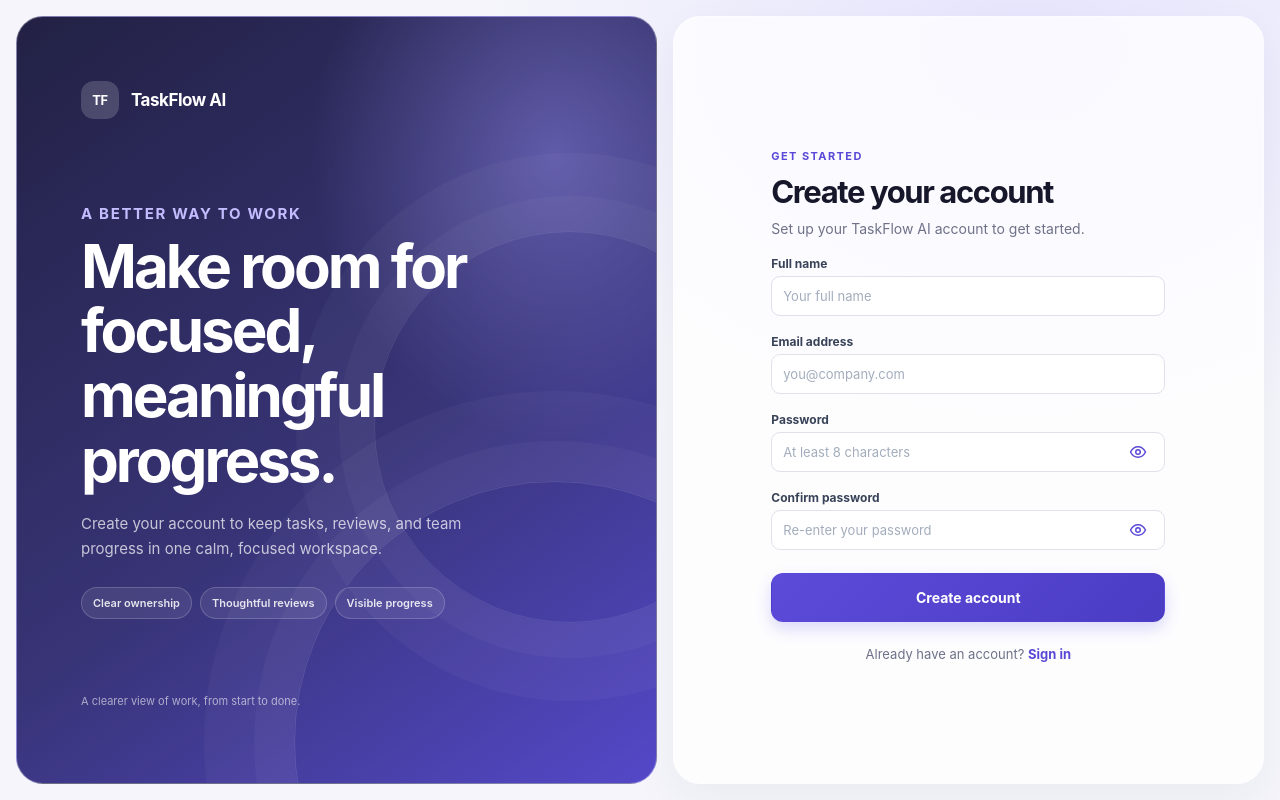
Scenario: RegistrationForm › rejects passwords that do not match
In the field labelled "Full name": (968, 296) [771,276,1165,316], type "Taylor Example"
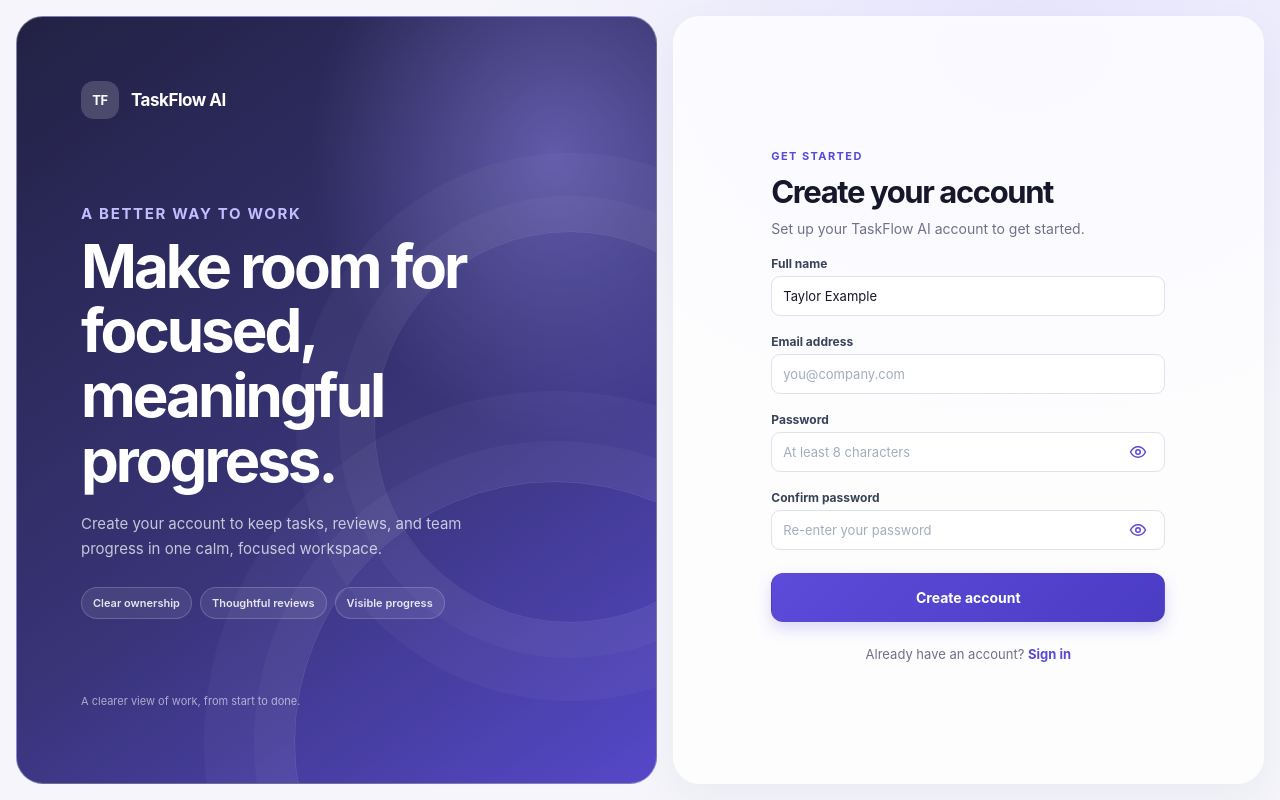
In the field labelled "Email address": (968, 374) [771,354,1165,394], type "taylor@example.com"
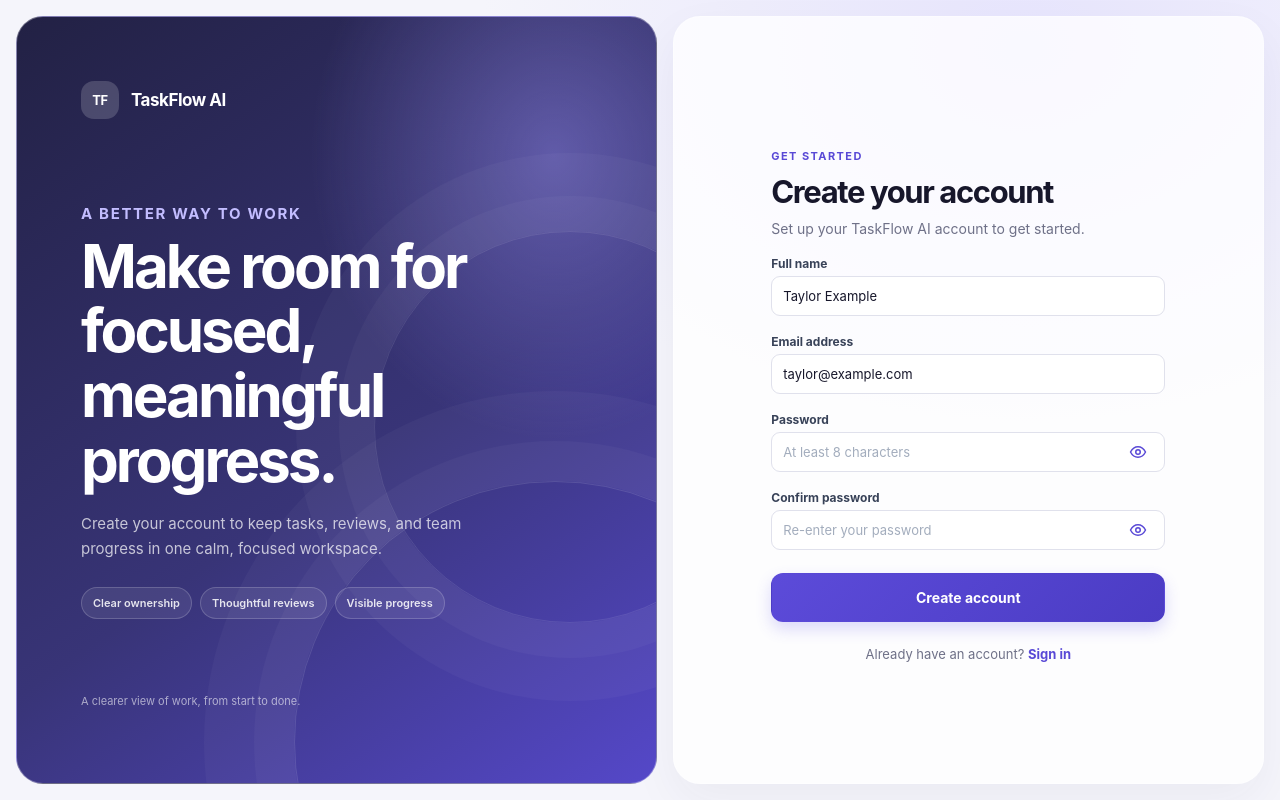
In the password field labelled "Password": (968, 452) [771,432,1165,472], type "Password123"
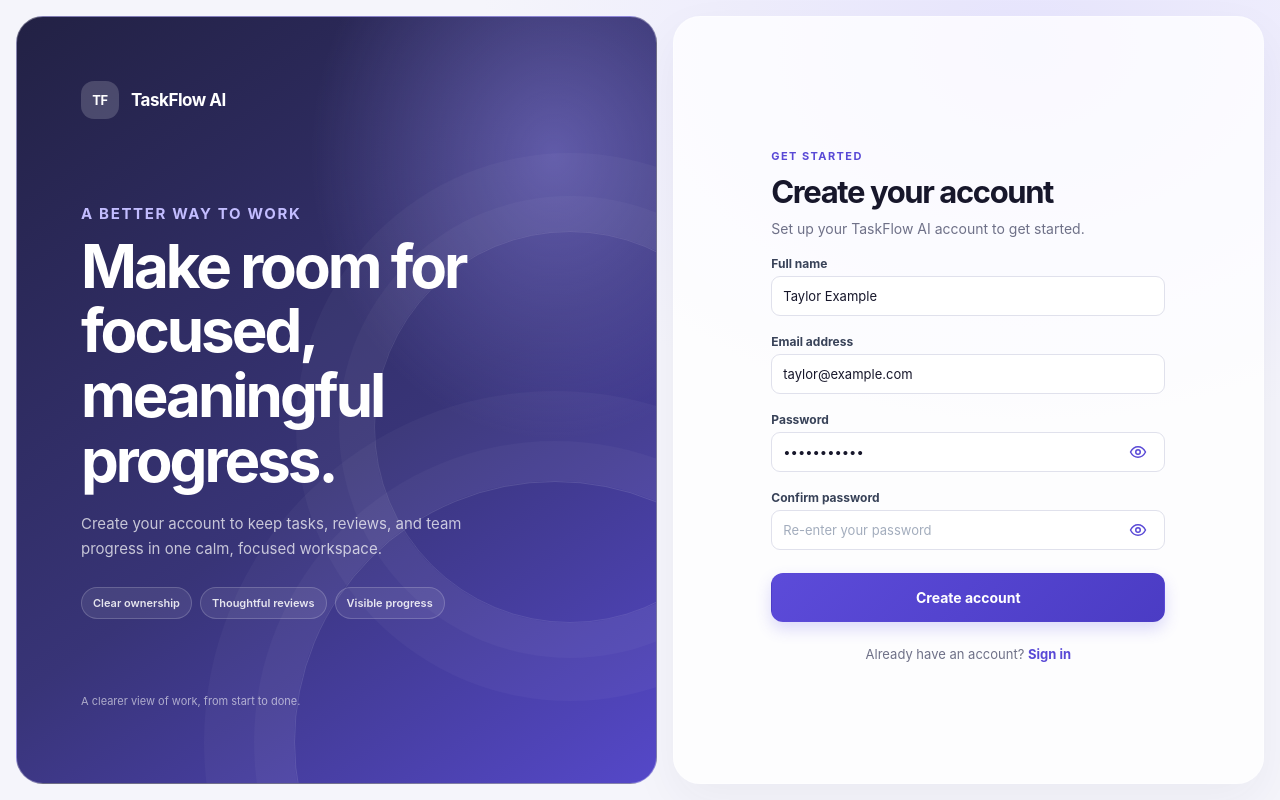
In the password field labelled "Confirm password": (968, 530) [771,510,1165,550], type "Different123"
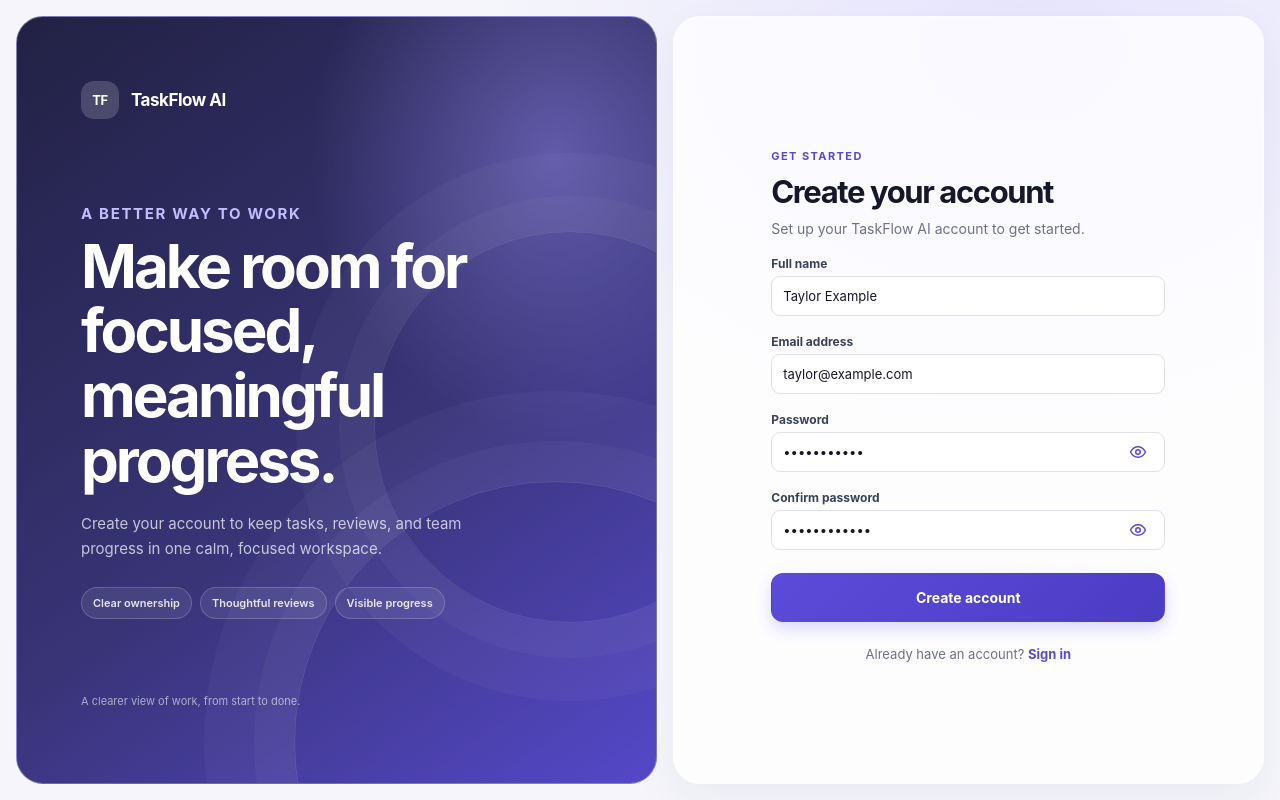
Click the button "Create account": (968, 597) [771,573,1165,622]
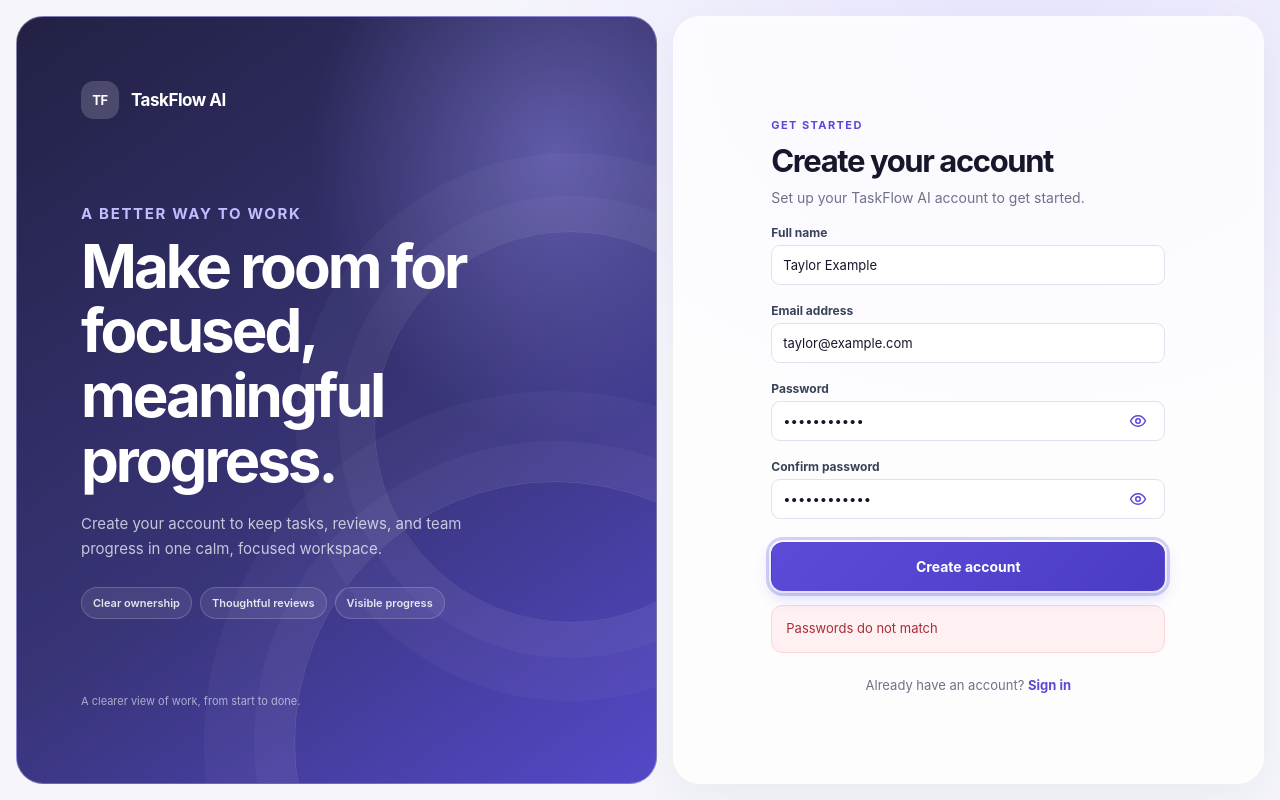
expect the message reads "Passwords do not match": met, box [786,620,938,636]
